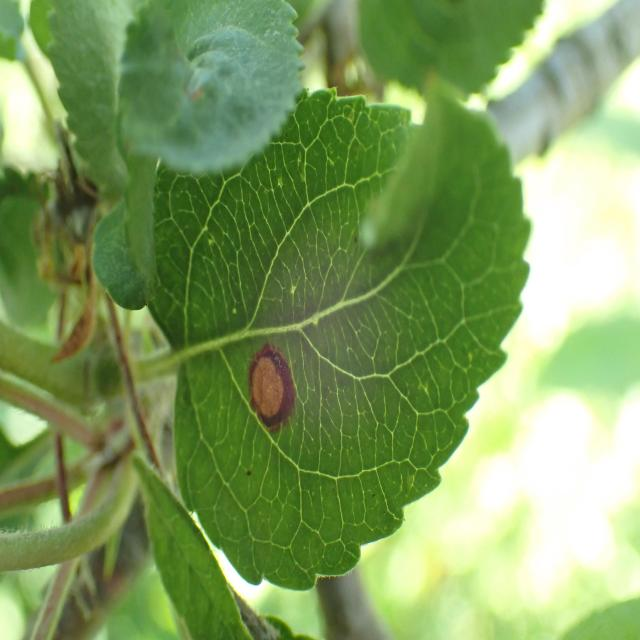Black Rot: (235, 339, 307, 427)
